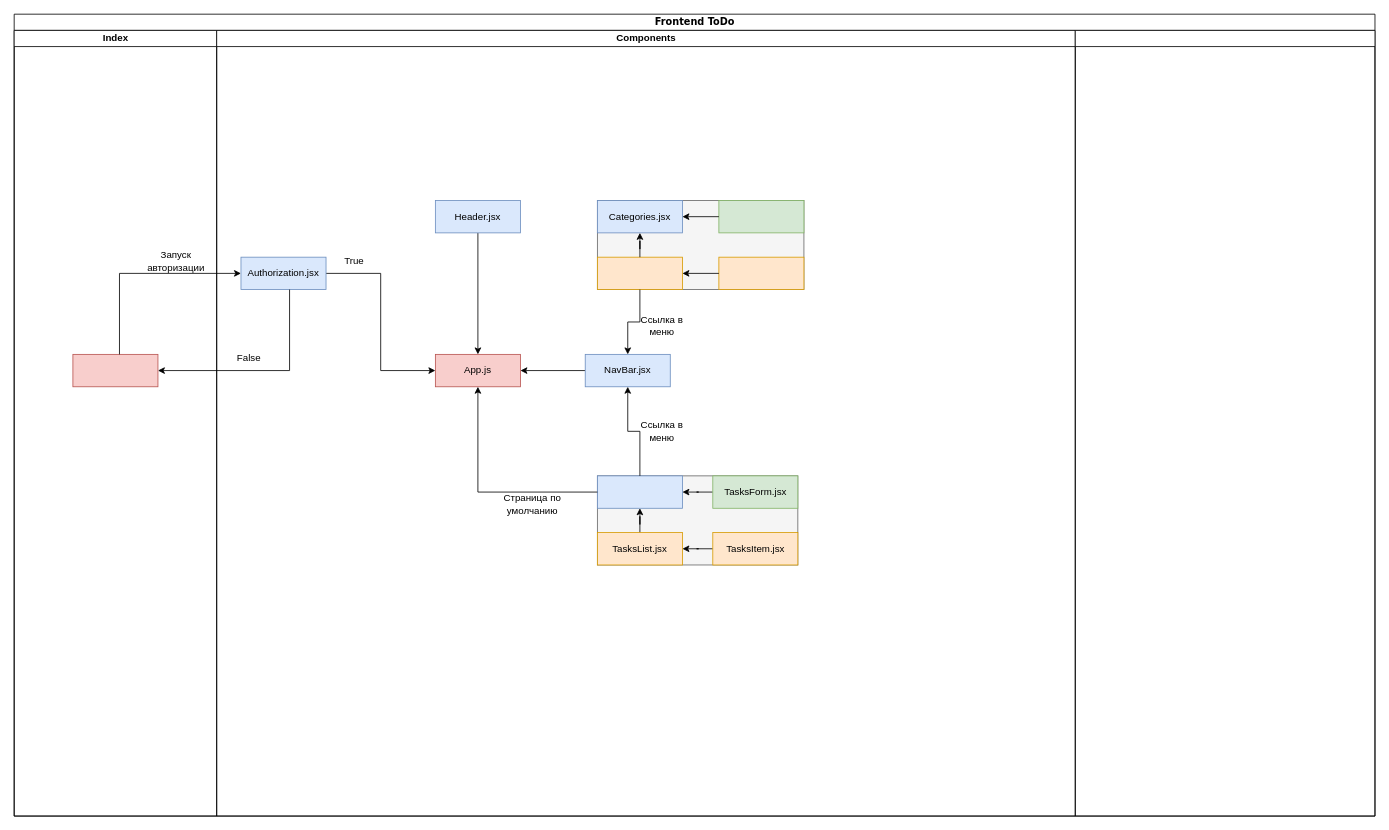
Image size: 1389x830. Some labels were removed from this diagram. The shapes that lost their labels are listed below. From the top down, each one's centre as x and y in pixels, then its label:
the point at 761,216: CategoryForm.jsx
the point at 639,273: CategoriesList.jsx
the point at 761,273: CategoryItem
the point at 115,370: index.js
the point at 1224,423: UI
the point at 639,491: Tasks.jsx
